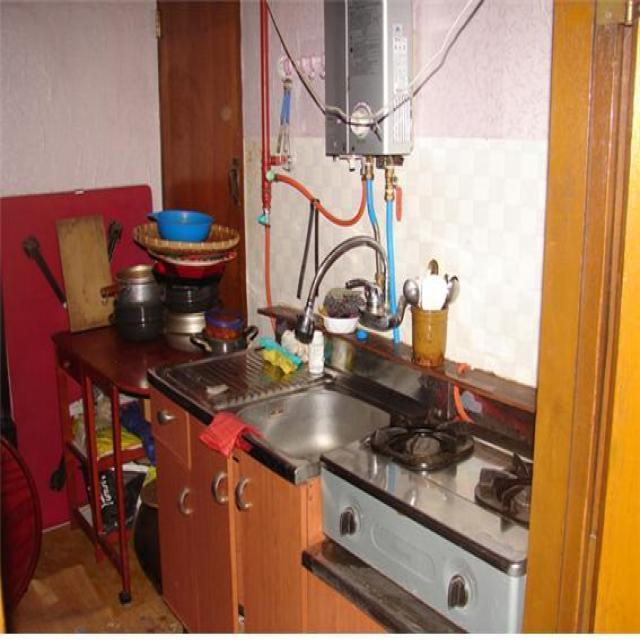Boiler: (312, 0, 420, 164)
